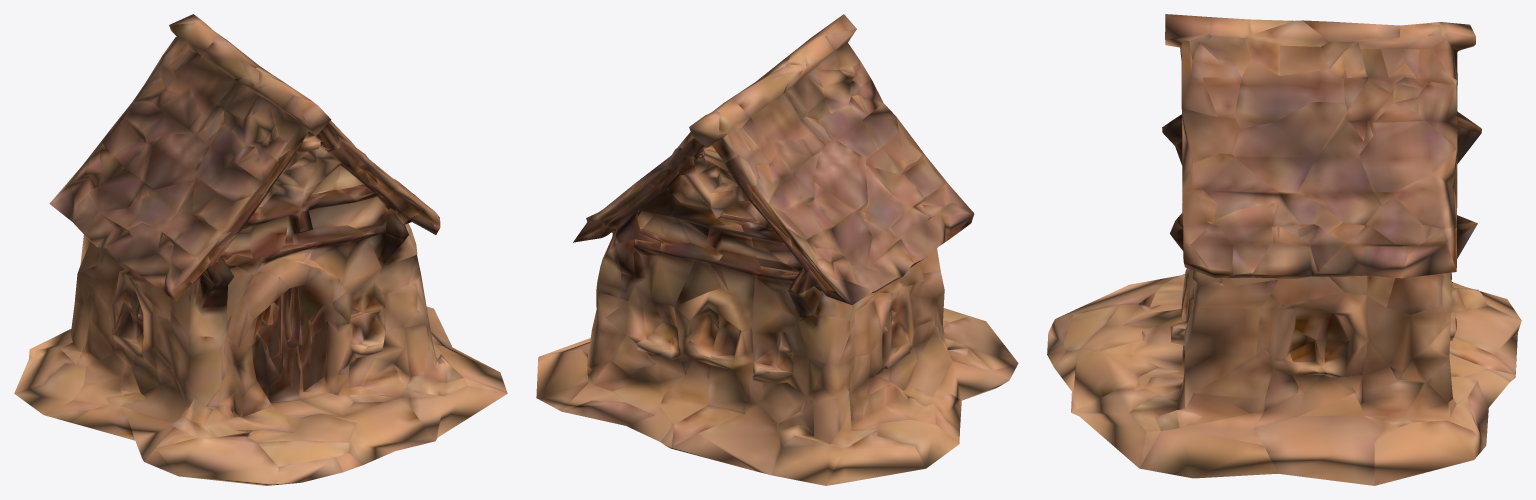
The model's file is cottage.glb.
3 views of the same model, side by side, from view 1: azimuth 30°, elevation 25°; view 2: azimuth 150°, elevation 25°; view 3: azimuth 270°, elevation 25° (orthographic). The views are drawn at different scales.
Bounding box in the file's own units: 1.88 × 1.44 × 1.72.
Materials: 1 (1 with a texture image).
